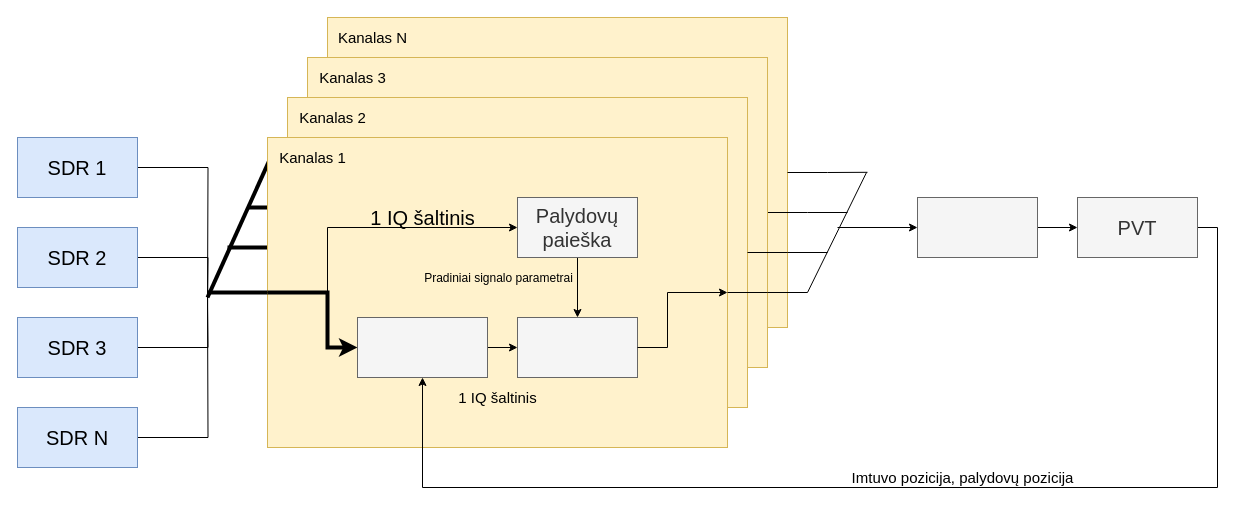
This 1243x513 diagram has some shape labels left out. The shapes that lost their labels are listed below. From the top down, each one's centre as x and y in pixels, then its label:
[977,227]: Stebėjimo blokas
[422,347]: Spindulio formavimas
[577,347]: Signalo sekimas
